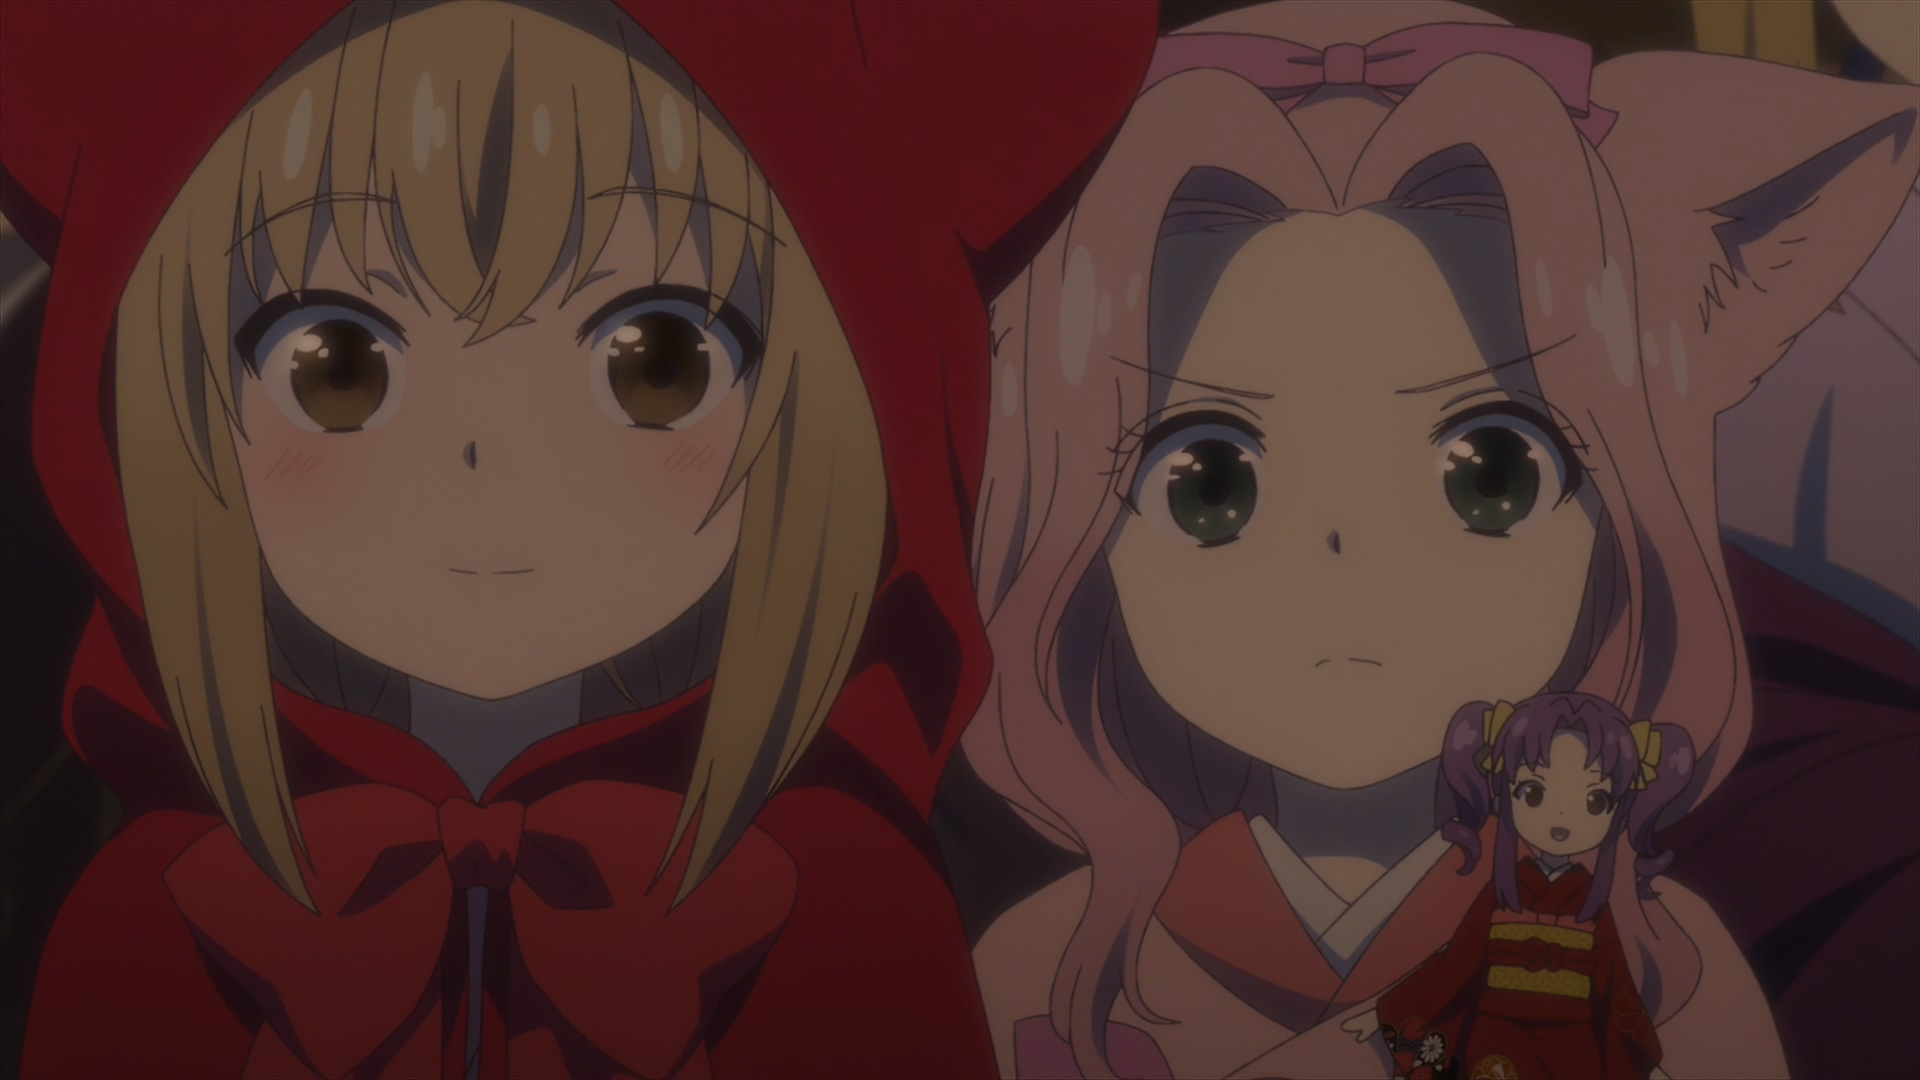柚: (1, 1, 1160, 1080)
莲: (961, 1, 1920, 1080)
阿菊: (1344, 688, 1695, 1080)
